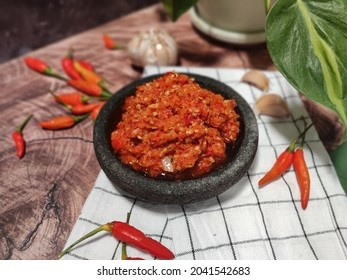sambal: (111, 71, 235, 176)
